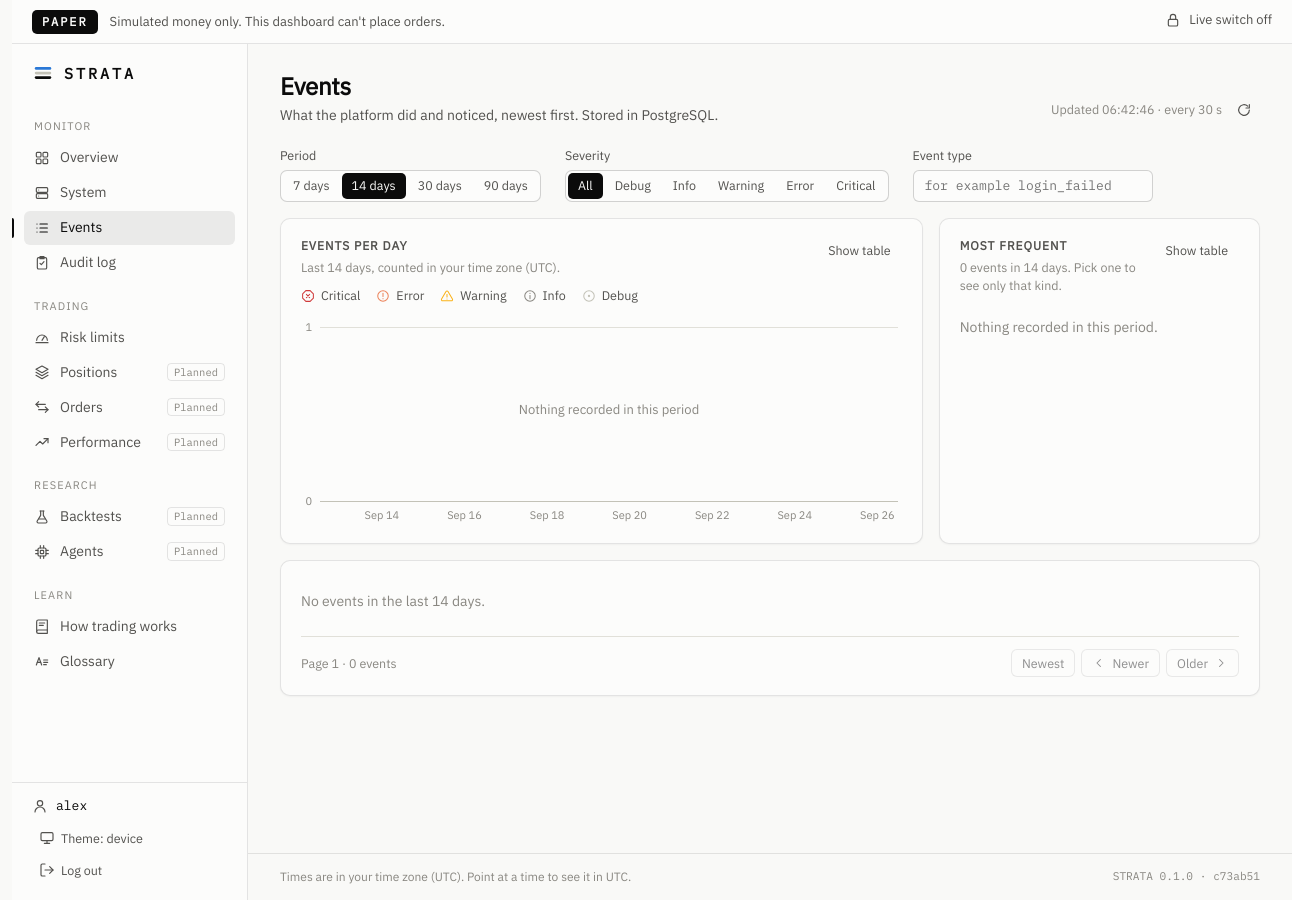
Test: the events page › filters by event type once the name is valid
The width and height of the screenshot is (1292, 900).
Type "Bad Name!" into the field labelled "Event type" at (1032, 186), box x1=912 y1=170 x2=1152 y2=202
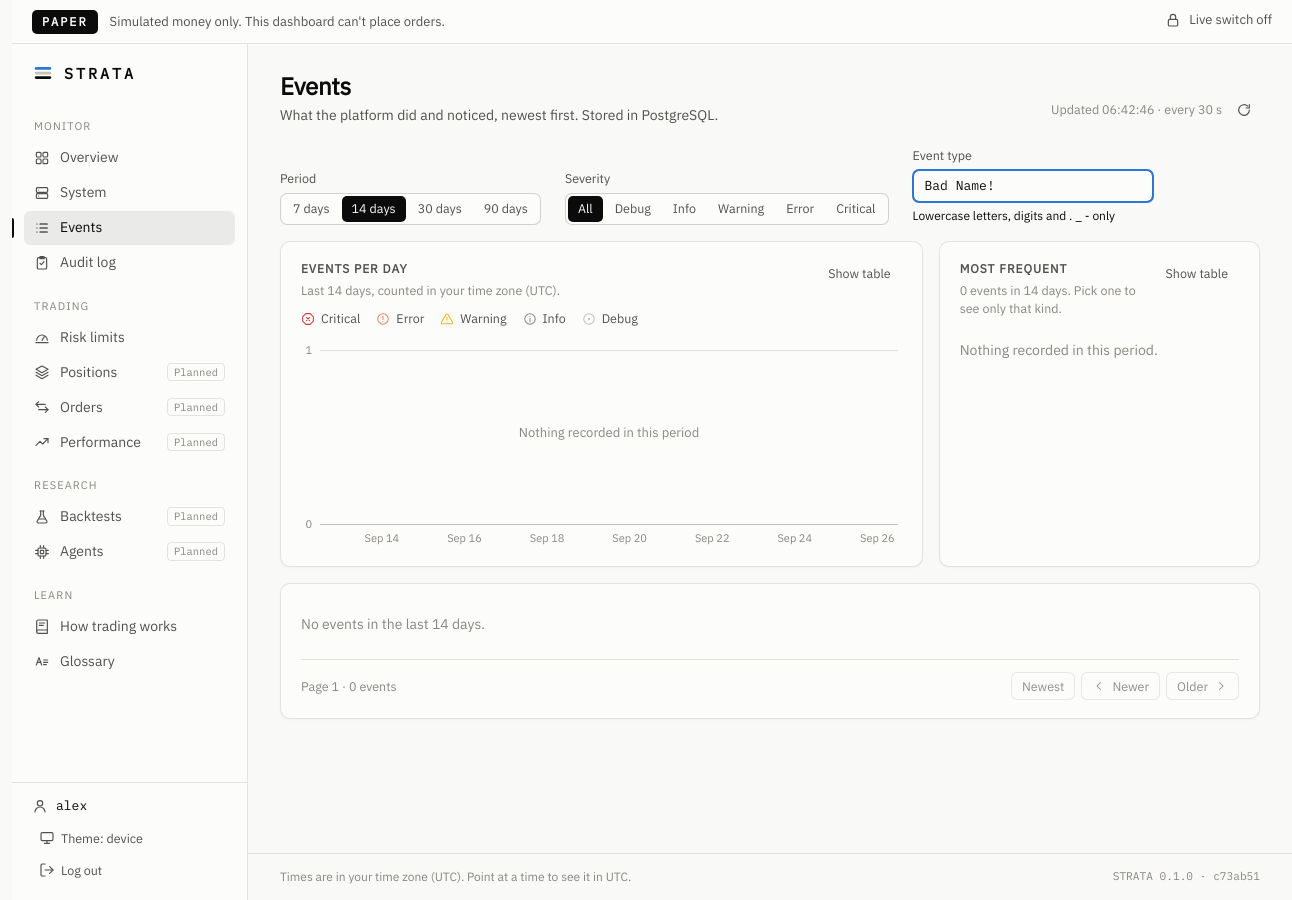
Result: the text "Lowercase letters, digits and . _ - only" is shown at x1=912 y1=208 x2=1115 y2=222
Replace the text in the field labelled "Event type" with "login_failed" at (1032, 186), box x1=912 y1=170 x2=1152 y2=202
Then press Enter
(page scrolled)
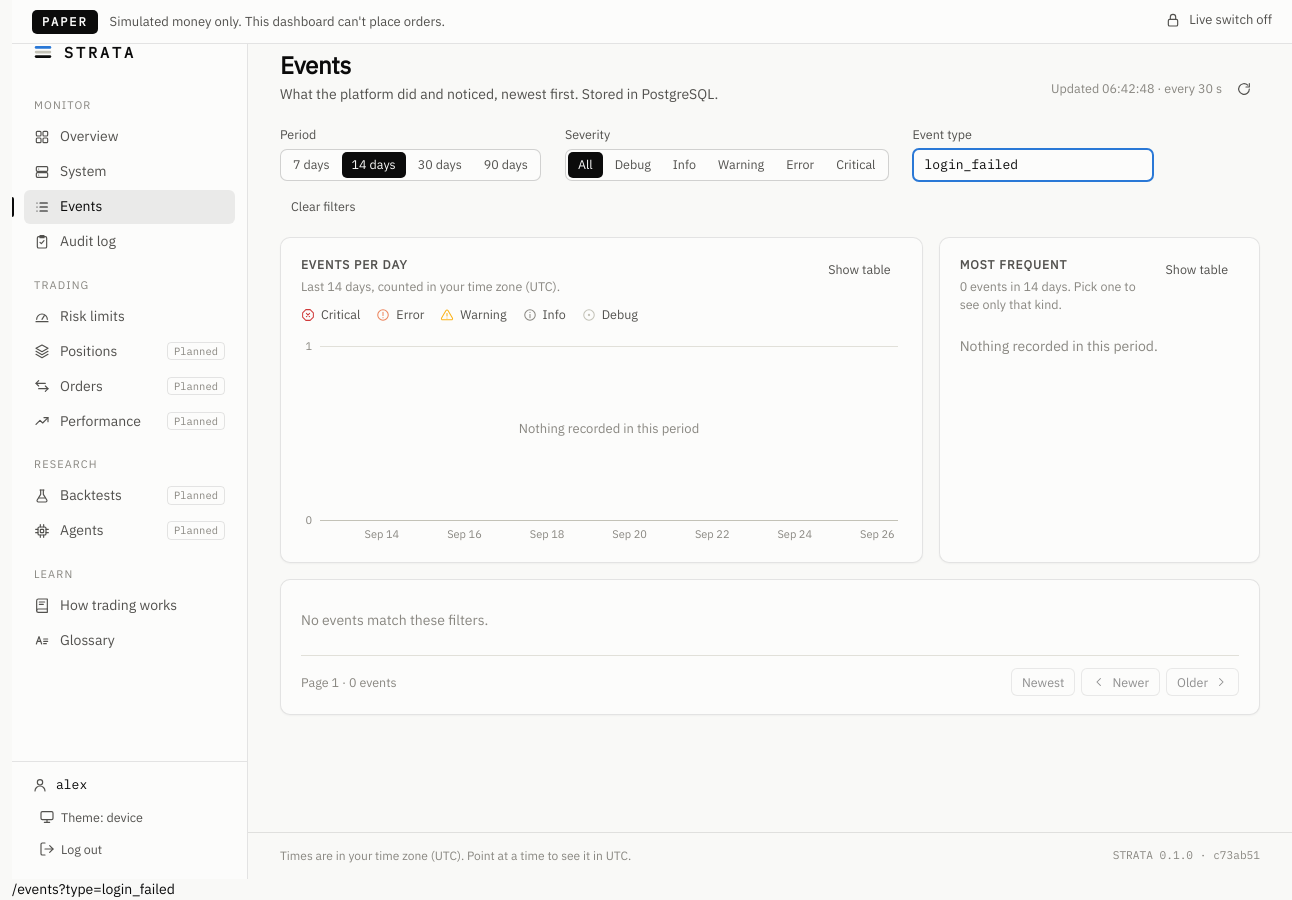
Result: the text with test id "where" reads "/events?type=login_failed" at x1=12 y1=880 x2=175 y2=898
